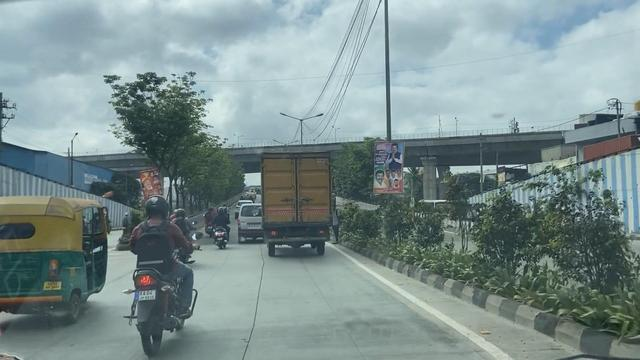HMV: (262, 151, 335, 259)
LMV: (131, 203, 196, 341), (213, 198, 230, 245)
